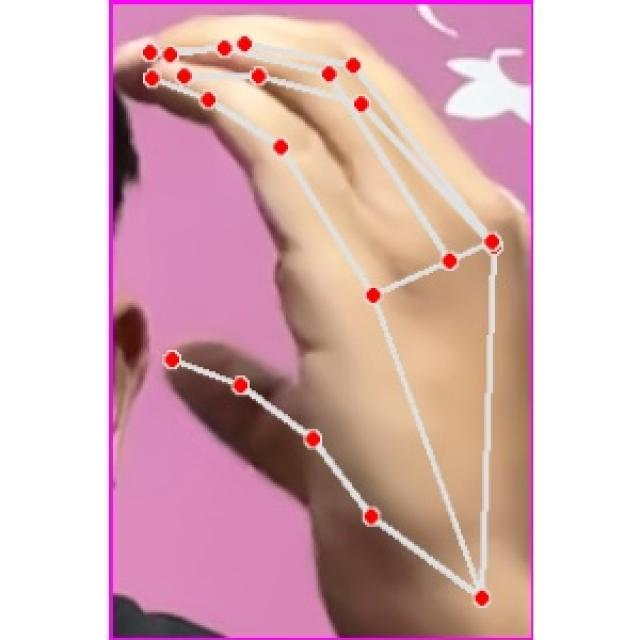C: (109, 1, 536, 640)
